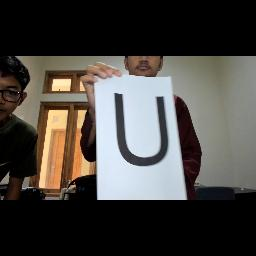u: (111, 90, 175, 170)
